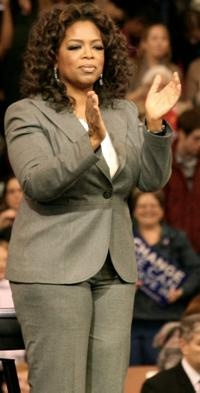person without safety: (1, 1, 157, 392)
